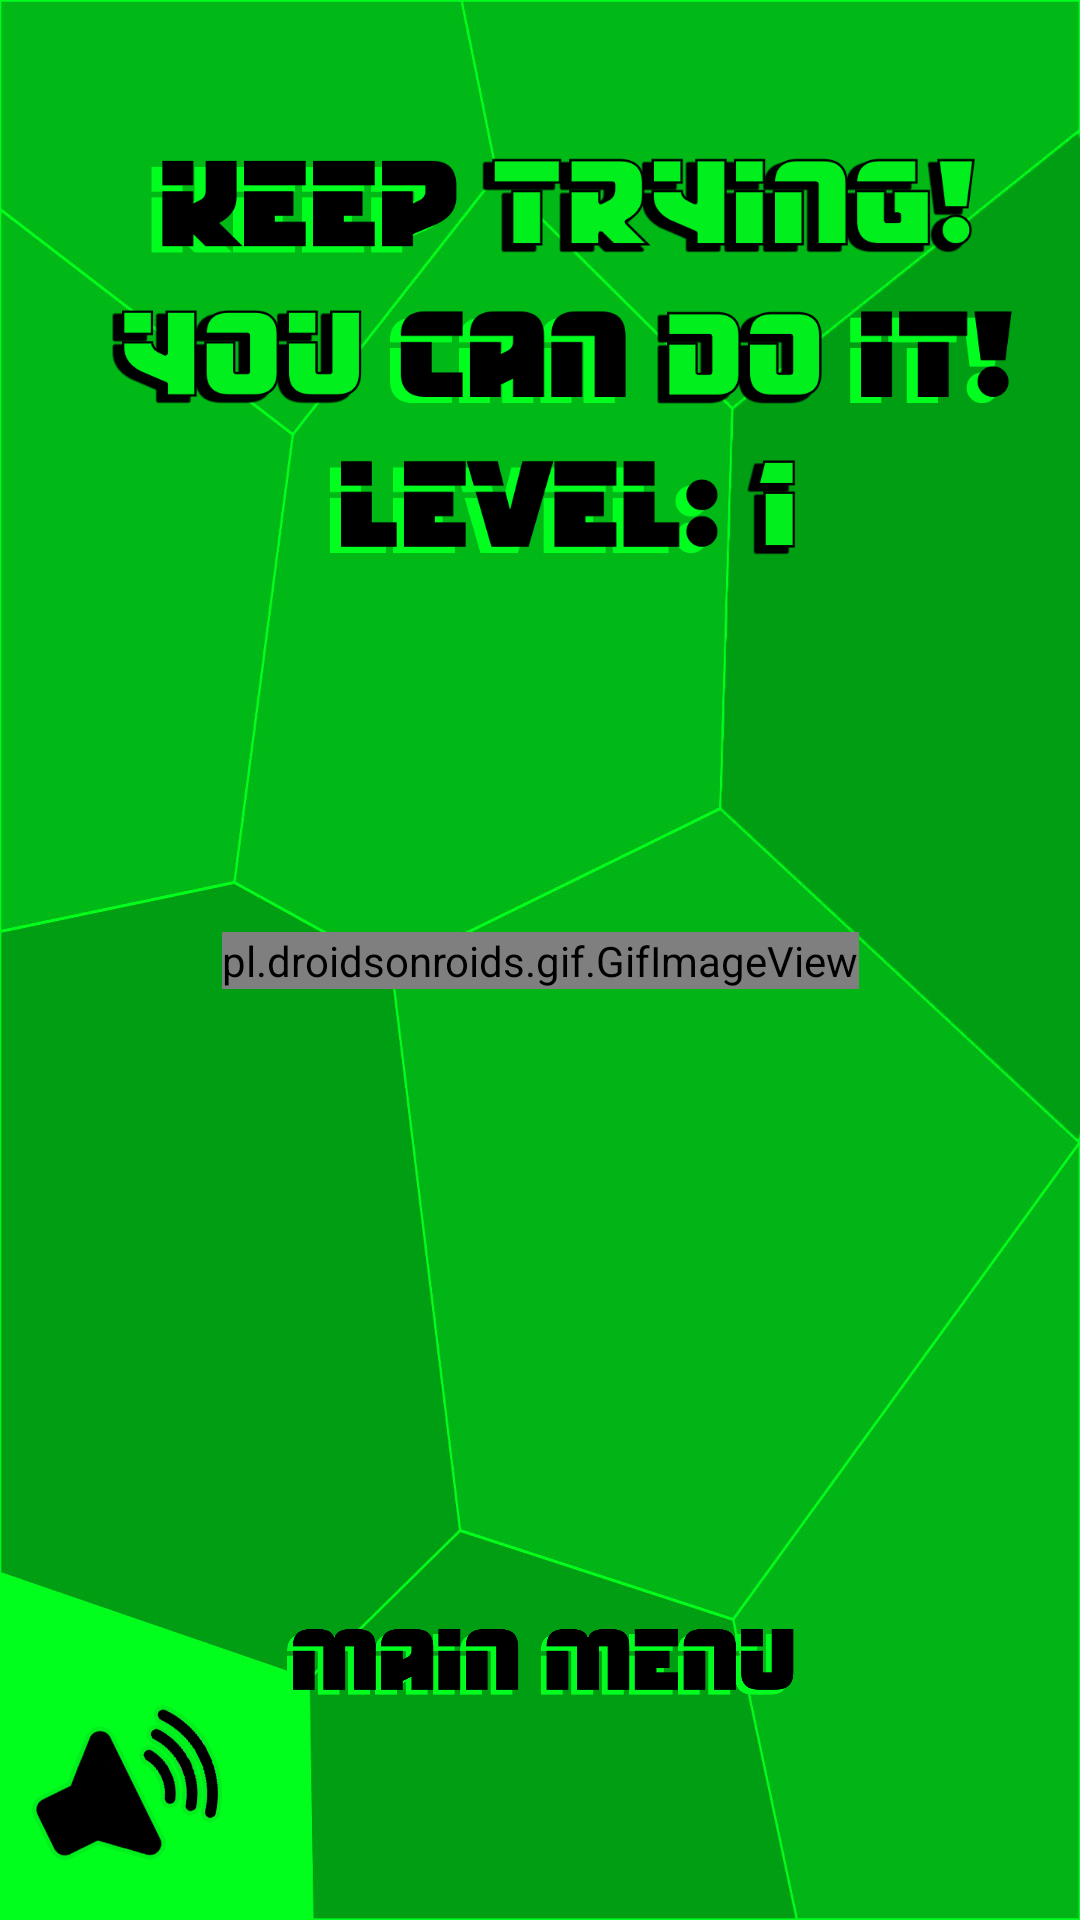

Icon bounding boxes for this 1080px×1920px phone screenshot, format BBox(x1, y1, x2, y2):
unmute: BBox(36, 1709, 219, 1856)
